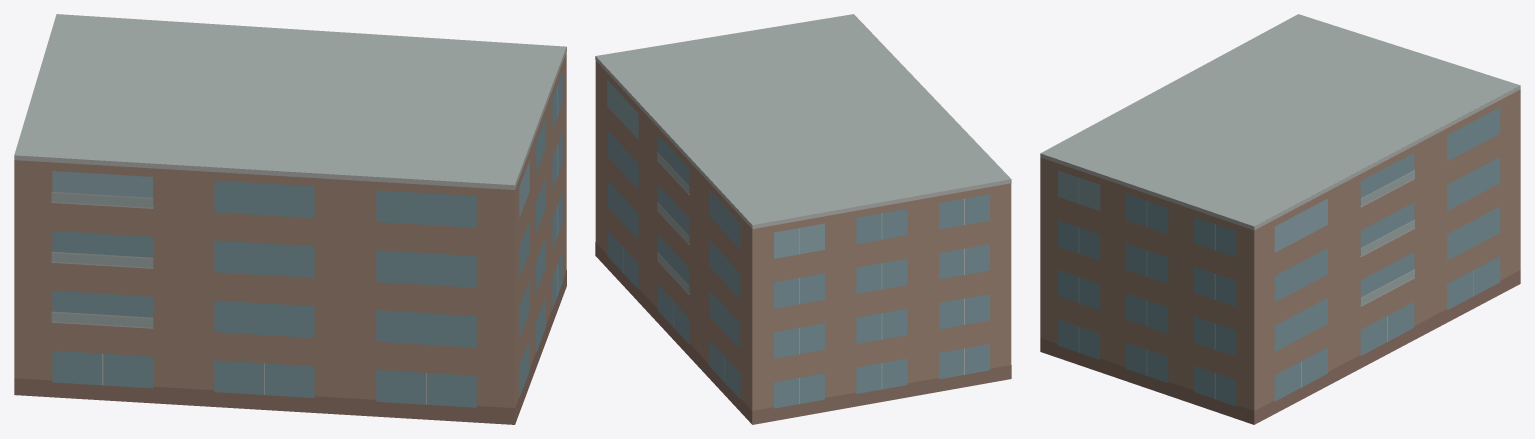
Rendered from survey-upis-32954959.glb.
The picture shows the model from 3 angles, left to right: view 1: azimuth 30°, elevation 25°; view 2: azimuth 150°, elevation 25°; view 3: azimuth 270°, elevation 25°; orthographic projection. The views are drawn at different scales.
Parts seen in each view (by area): view 1: survey-upis-32954959.tmp; view 2: survey-upis-32954959.tmp; view 3: survey-upis-32954959.tmp.
Part boxes in pixels (<box>): survey-upis-32954959.tmp: <box>14,14,566,424</box>; survey-upis-32954959.tmp: <box>595,14,1011,424</box>; survey-upis-32954959.tmp: <box>1040,14,1520,424</box>.
Bounding box in the file's own units: 28.02 × 12.2 × 26.77.
